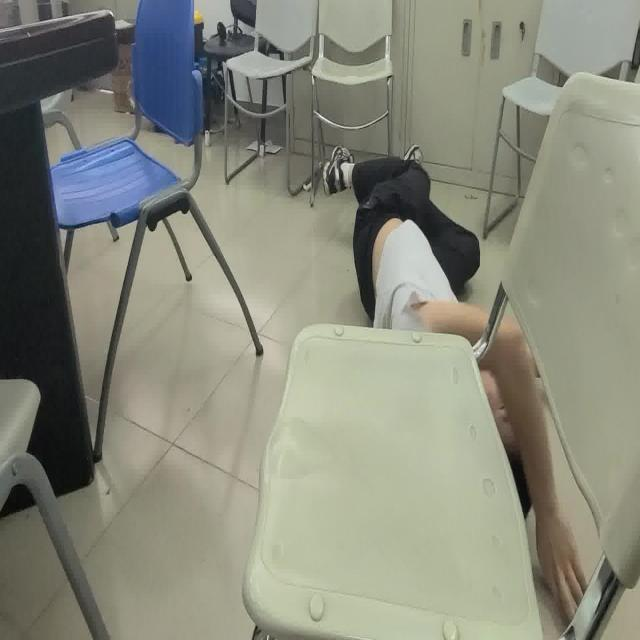Fall-Detected: (320, 140, 588, 624)
